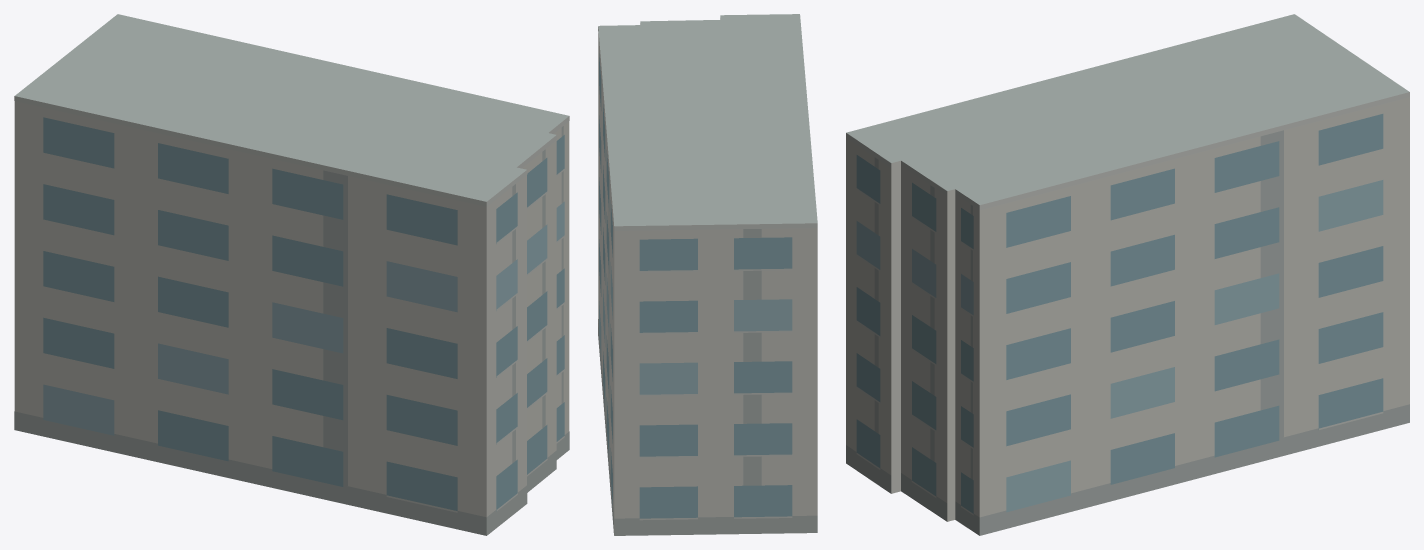
Rendered from survey-upis-32999289.glb.
3 views of the same model, side by side, from view 1: azimuth 30°, elevation 25°; view 2: azimuth 150°, elevation 25°; view 3: azimuth 270°, elevation 25° (orthographic). The views are drawn at different scales.
Visible parts, largest first — view 1: survey-upis-32999289.tmp; view 2: survey-upis-32999289.tmp; view 3: survey-upis-32999289.tmp.
Part boxes in pixels (<box>): survey-upis-32999289.tmp: <box>14,14,569,535</box>; survey-upis-32999289.tmp: <box>598,14,817,535</box>; survey-upis-32999289.tmp: <box>846,14,1409,535</box>.
Bounding box in the file's own units: 19.6 × 15.8 × 24.42.
